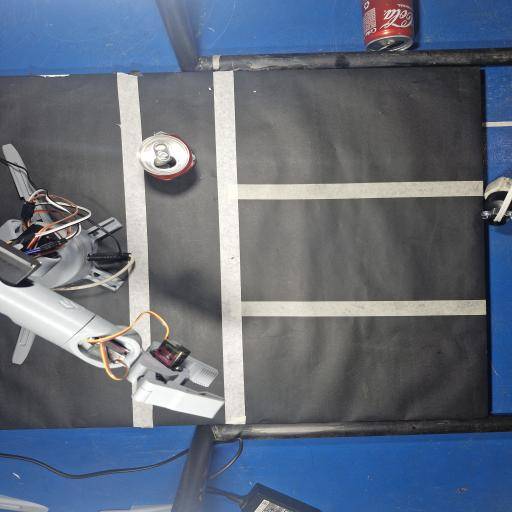lata_defectuoso: (137, 134, 195, 180)
